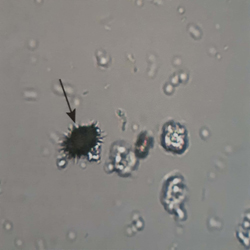Crystal: (57, 120, 105, 168)
